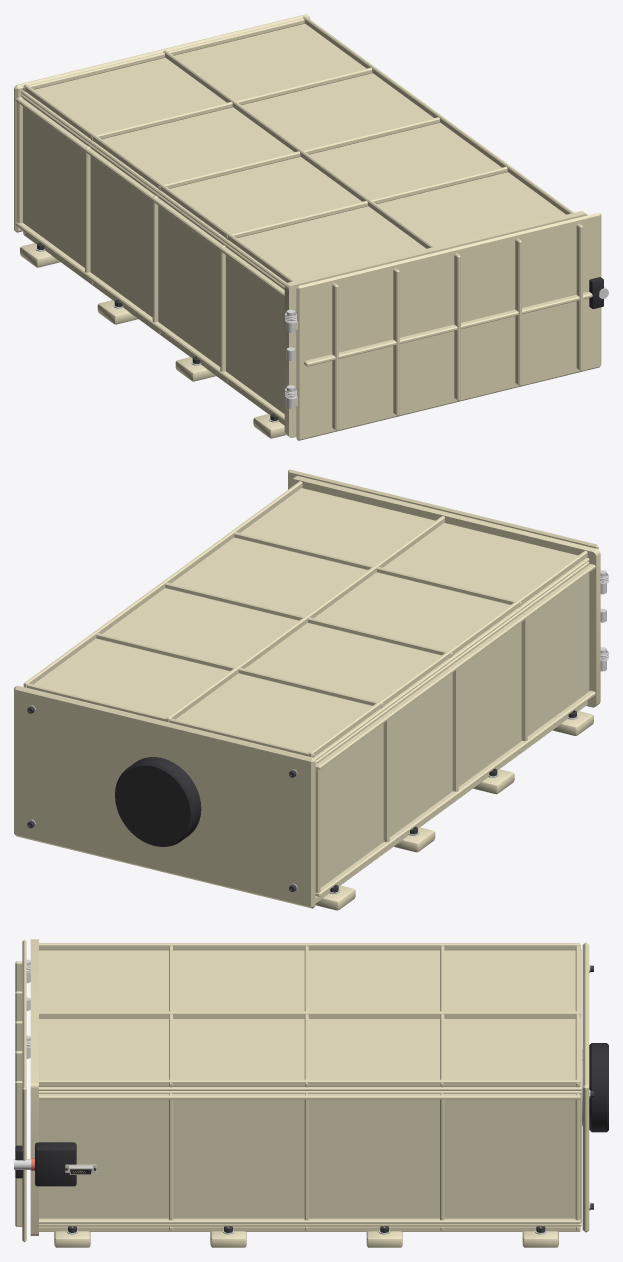
The model's file is deployer_6u_closed.glb.
The picture shows the model from 3 angles, top to bottom: view 1: azimuth 30°, elevation 25°; view 2: azimuth 150°, elevation 25°; view 3: azimuth 270°, elevation 25°; orthographic projection. The views are drawn at different scales.
Visible parts, largest first — view 1: wall (×3), door, deployer_6u_closed; view 2: wall (×3), deployer_6u_closed, door; view 3: wall (×3), deployer_6u_closed, door.
Part boxes in pixels (x1,y1,x2,y2): wall (×3): (15, 16, 573, 425); door: (284, 212, 603, 440); deployer_6u_closed: (14, 14, 608, 438); wall (×3): (23, 481, 595, 903); deployer_6u_closed: (14, 476, 606, 910); door: (288, 469, 608, 671); wall (×3): (39, 943, 581, 1231); deployer_6u_closed: (14, 939, 608, 1247); door: (15, 940, 30, 1242).
Size of the model in its own units: 0.2739 by 0.1285 by 0.427.
